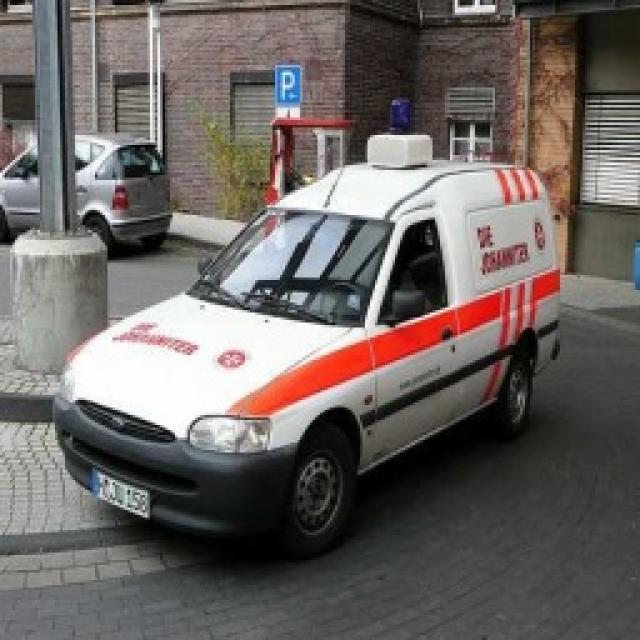ambulance: (30, 92, 621, 561)
